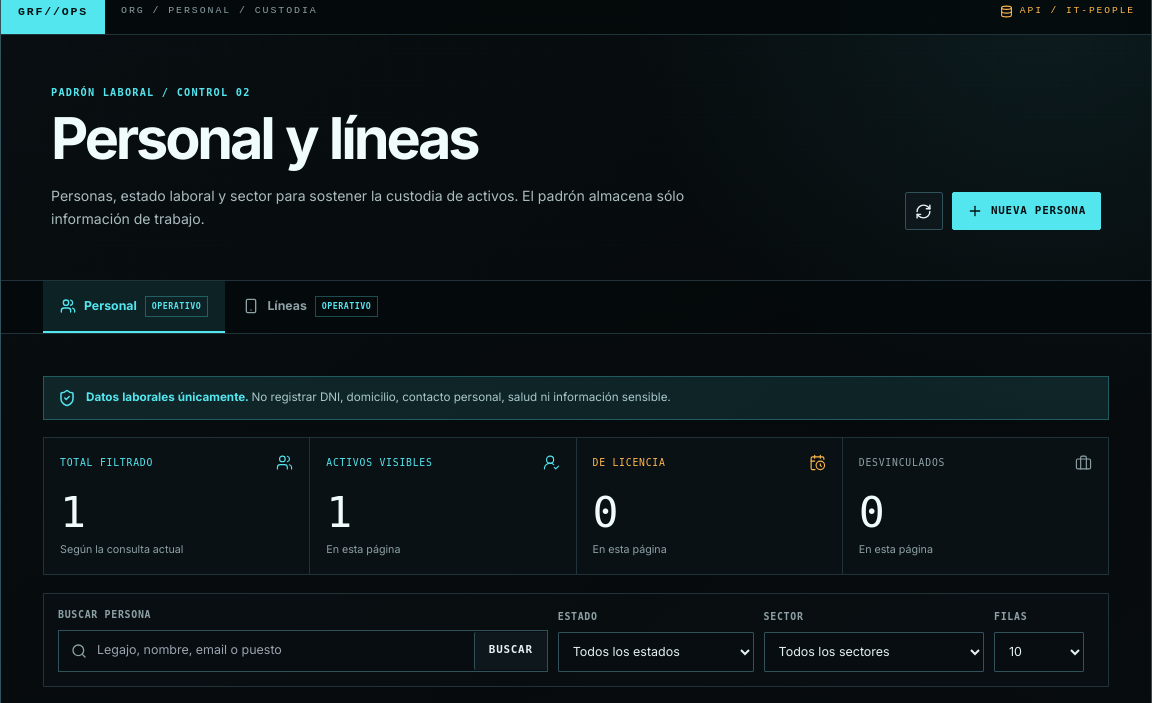
Test: ItStaffPage › expone el aviso de privacidad y muestra Líneas operativo
Check: the text "No registrar DNI" is shown, box left=248, top=390, right=671, bottom=404
Click the button "Nueva persona" at (1026, 211), box left=952, top=192, right=1101, bottom=230
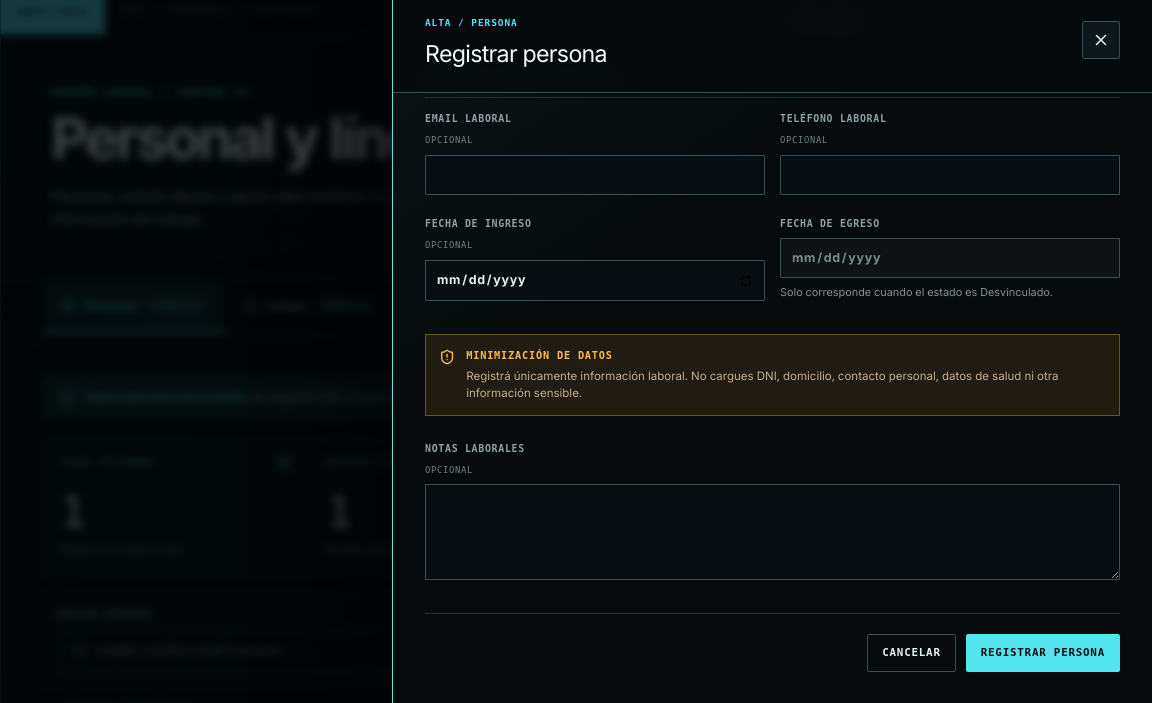
Check: the text "No cargues DNI" is shown, box left=466, top=368, right=1059, bottom=400
Click the button "Cancelar" at (912, 653), box left=867, top=634, right=956, bottom=672
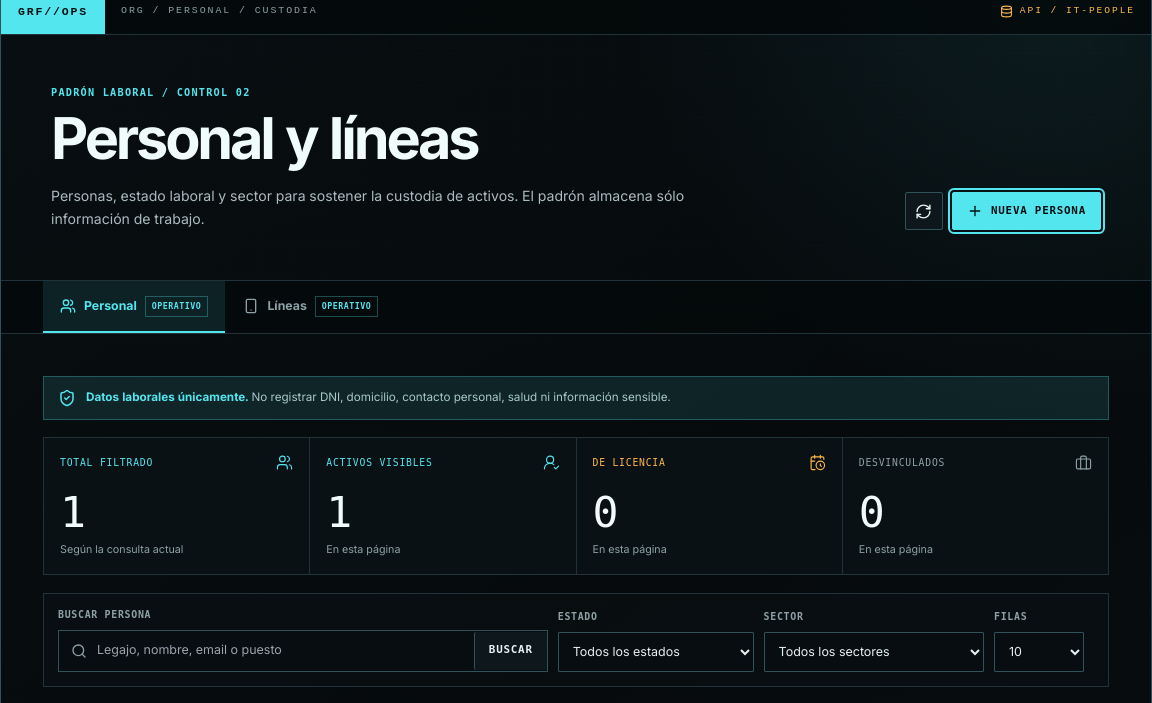
Click the tab "Líneas Operativo" at (311, 307), box left=226, top=281, right=395, bottom=333
(page scrolled)
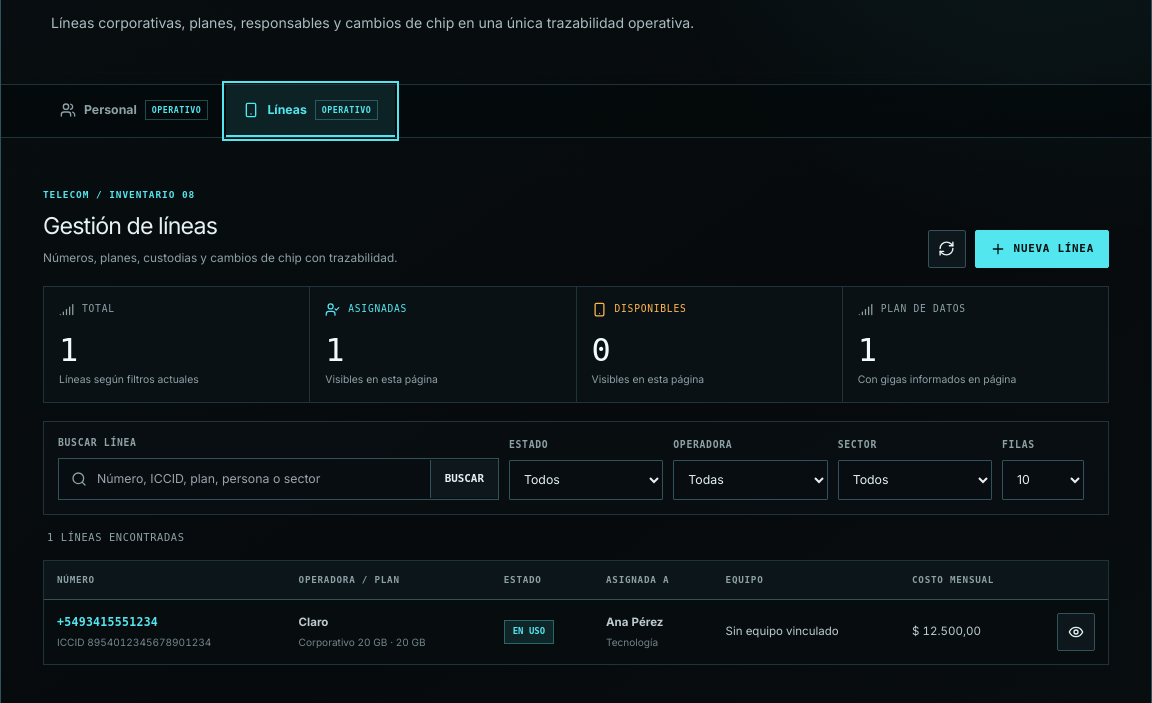
Check: the heading "Gestión de líneas" is shown, box left=43, top=212, right=217, bottom=240
Check: the text "+5493415551234" is shown, box left=57, top=615, right=158, bottom=629
